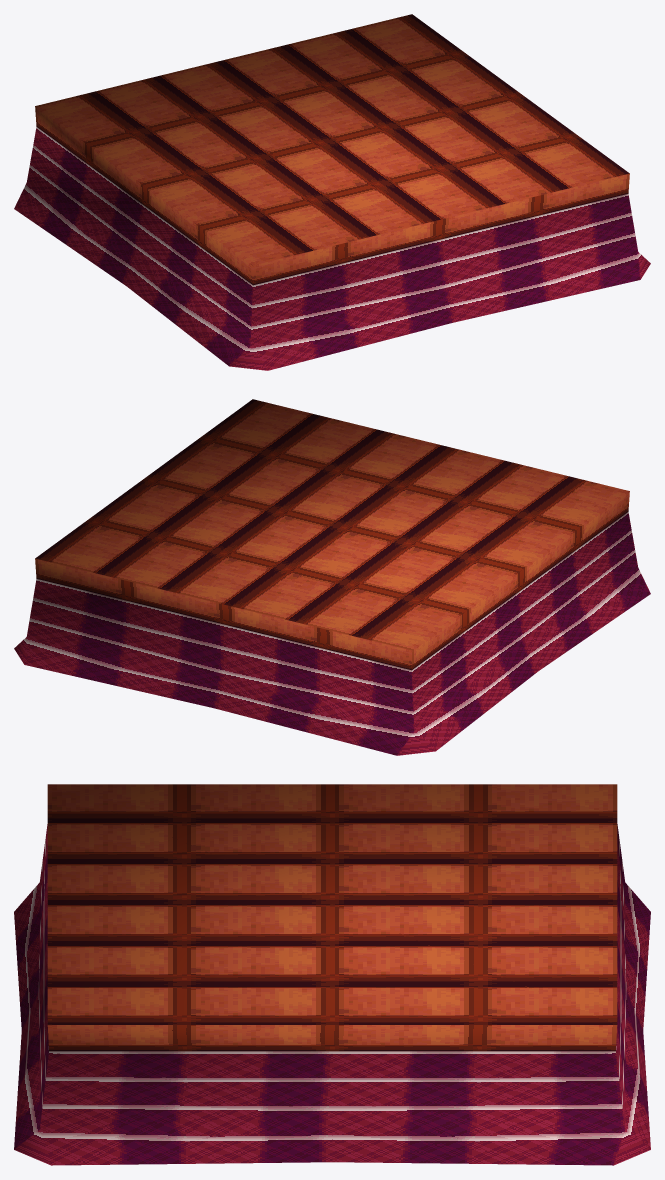
File: 3032imrl01_03.gltf
The picture shows the model from 3 angles, top to bottom: view 1: azimuth 30°, elevation 25°; view 2: azimuth 150°, elevation 25°; view 3: azimuth 270°, elevation 25°; orthographic projection. The views are drawn at different scales.
Parts seen in each view (by area): view 1: 3032imrl01_03; view 2: 3032imrl01_03; view 3: 3032imrl01_03.
Part boxes in pixels (x1,y1,x2,y2): 3032imrl01_03: [14, 14, 650, 370]; 3032imrl01_03: [14, 399, 650, 755]; 3032imrl01_03: [14, 784, 650, 1165].
Bounding box in the file's own units: 1.97 × 0.4297 × 1.97.
2 materials, 2 textured.
